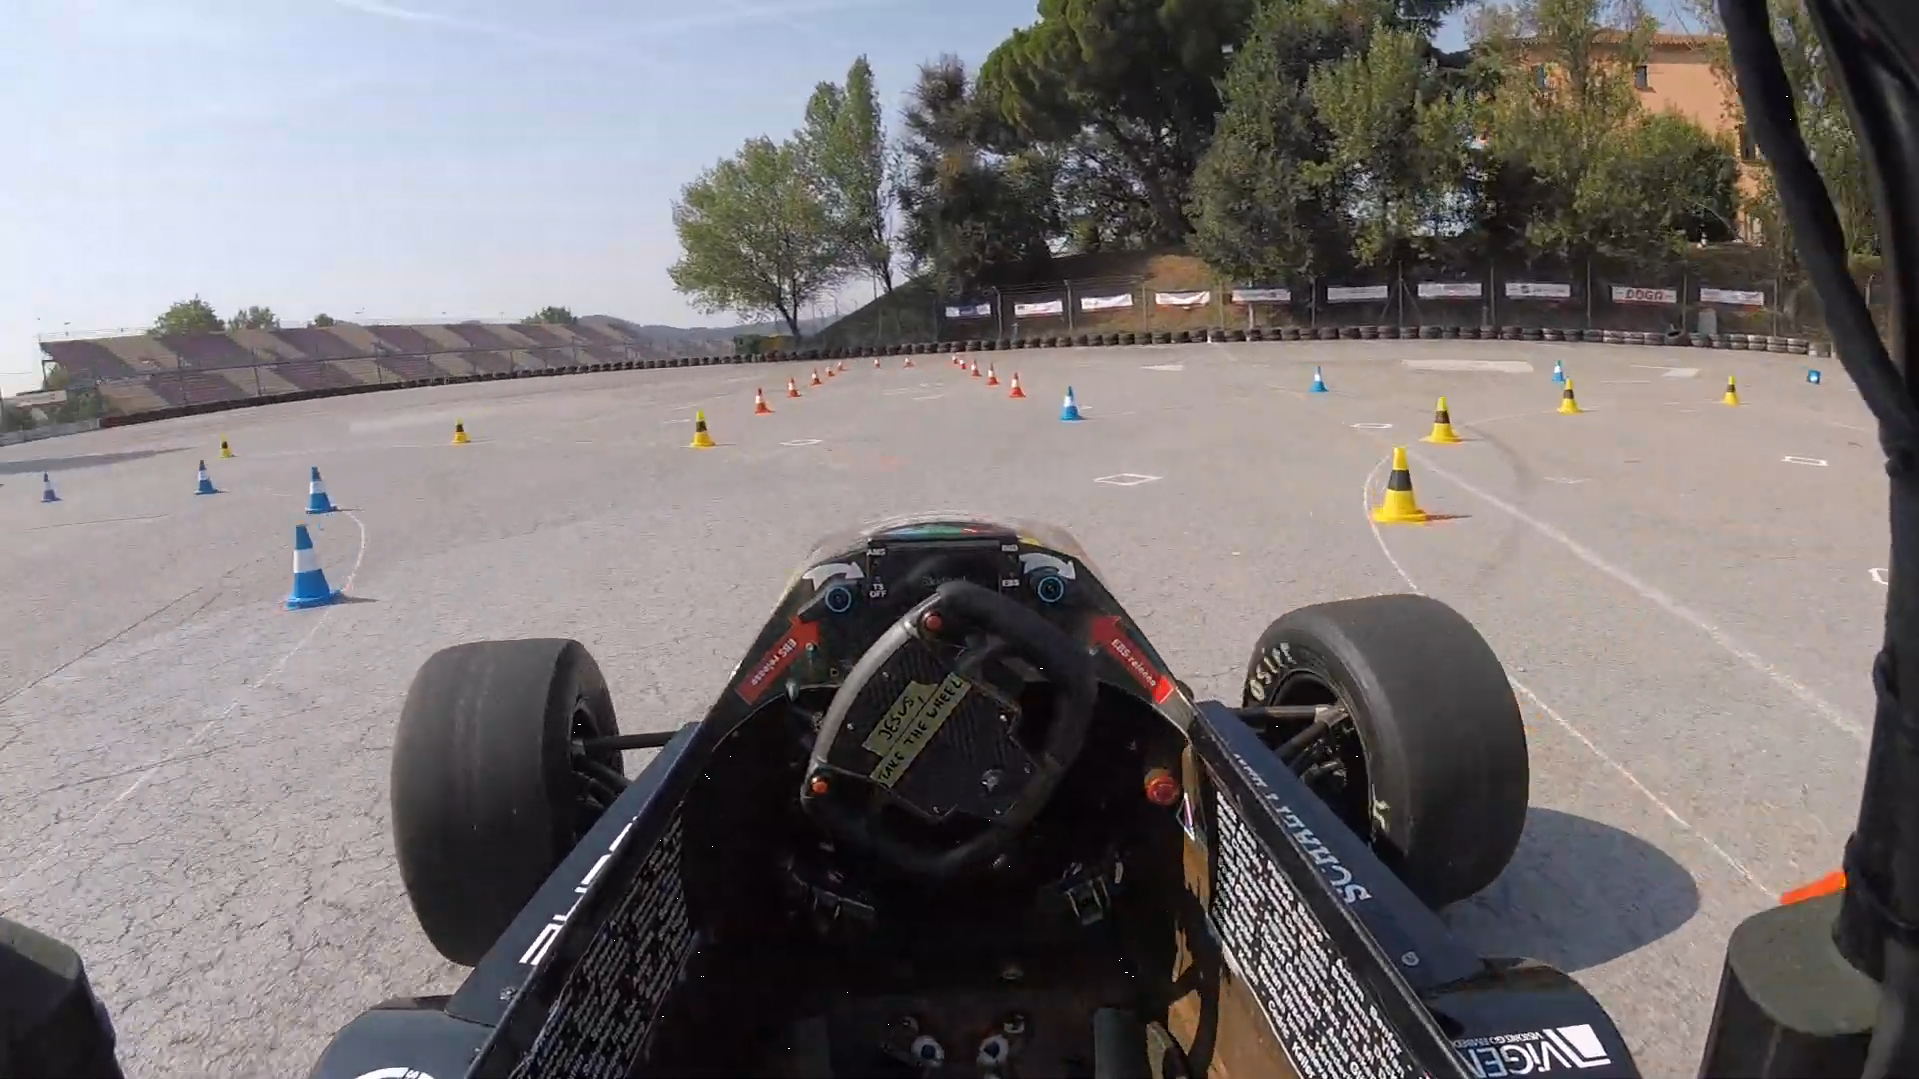cone-blue: (283, 524, 343, 610), (304, 466, 337, 514), (194, 458, 219, 495), (1060, 386, 1083, 422), (40, 472, 61, 503), (1310, 366, 1329, 393), (1553, 358, 1566, 382), (1807, 369, 1821, 383)
cone-orange: (753, 389, 772, 414), (1008, 372, 1027, 398), (985, 362, 1000, 386), (786, 378, 801, 398), (969, 358, 982, 377), (811, 368, 822, 386), (825, 364, 834, 378), (903, 356, 913, 368), (958, 358, 967, 370), (873, 357, 882, 368), (952, 354, 959, 365), (837, 360, 844, 372)
cone-yellow: (1372, 447, 1431, 524), (1423, 397, 1462, 444), (689, 410, 717, 448), (1557, 379, 1582, 412), (1721, 375, 1742, 406), (451, 418, 471, 444), (217, 433, 235, 458)
